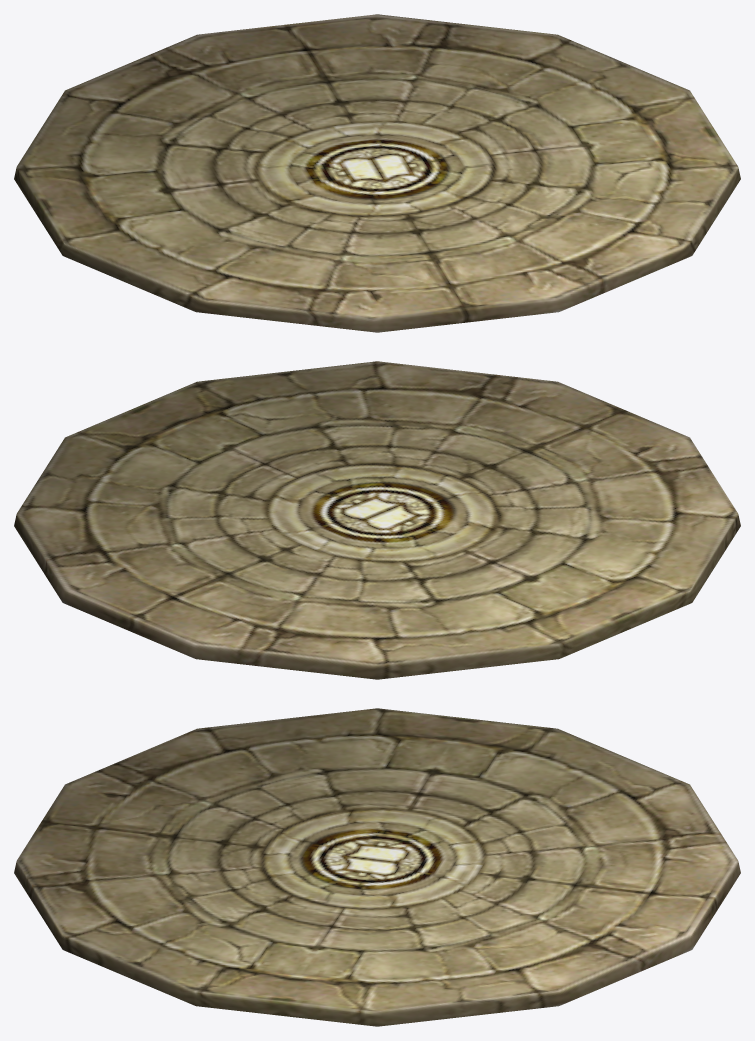
File: a_fd05stair.glb
3 views of the same model, one above another, from view 1: azimuth 30°, elevation 25°; view 2: azimuth 150°, elevation 25°; view 3: azimuth 270°, elevation 25° (orthographic).
Parts seen in each view (by area): view 1: a_fd05stair; view 2: a_fd05stair; view 3: a_fd05stair.
Part boxes in pixels (x1,y1,x2,y2): a_fd05stair: [14, 14, 740, 332]; a_fd05stair: [14, 361, 740, 679]; a_fd05stair: [14, 708, 740, 1026].
Size of the model in its own units: 3.98 by 0.0745 by 3.98.
1 material, 1 textured.
